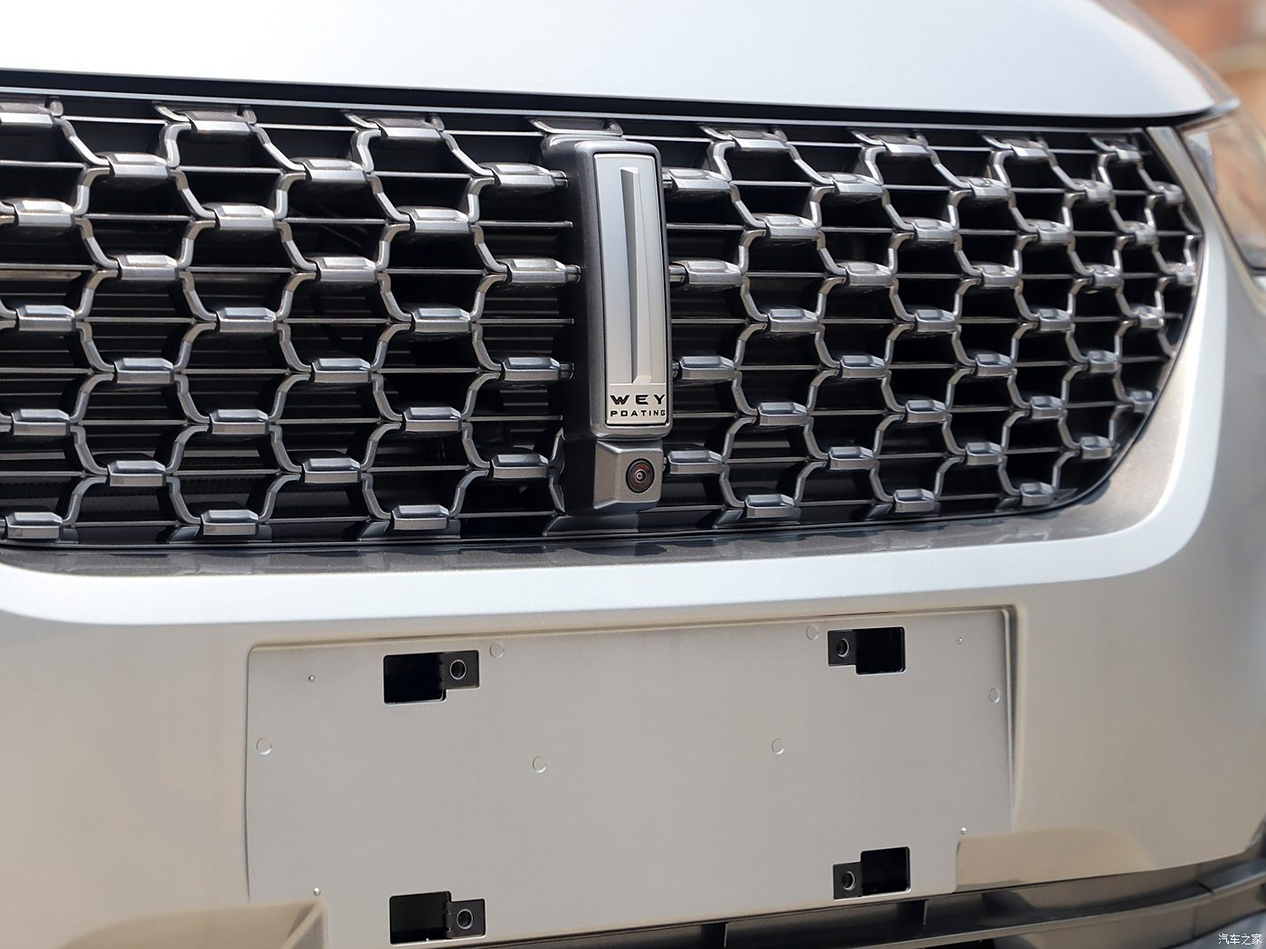WEY: (580, 141, 672, 434)
